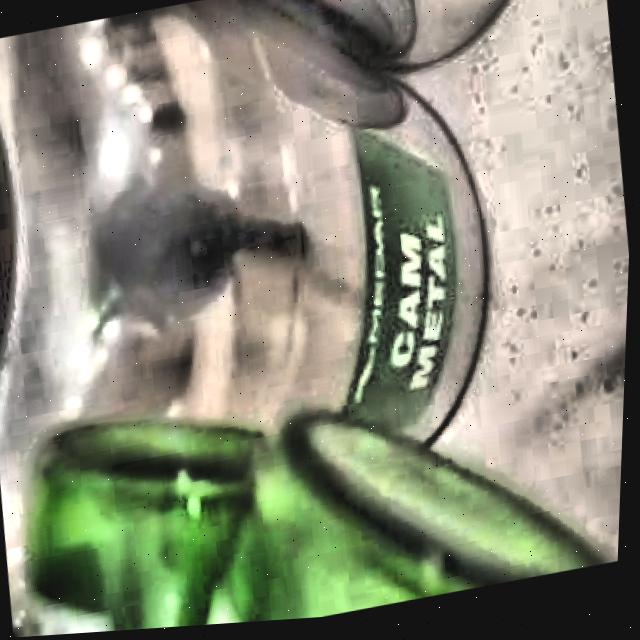glass: (27, 421, 606, 638)
